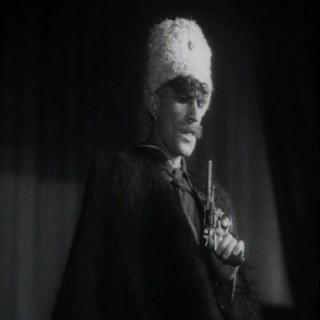gun: (200, 156, 247, 264)
